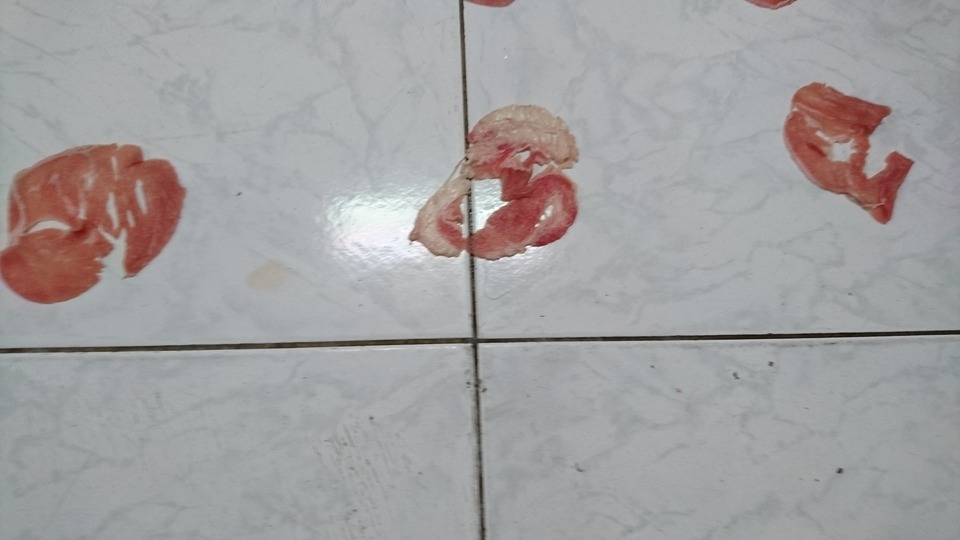restructured meat: (1, 144, 191, 305), (409, 100, 588, 263), (776, 76, 917, 228)
